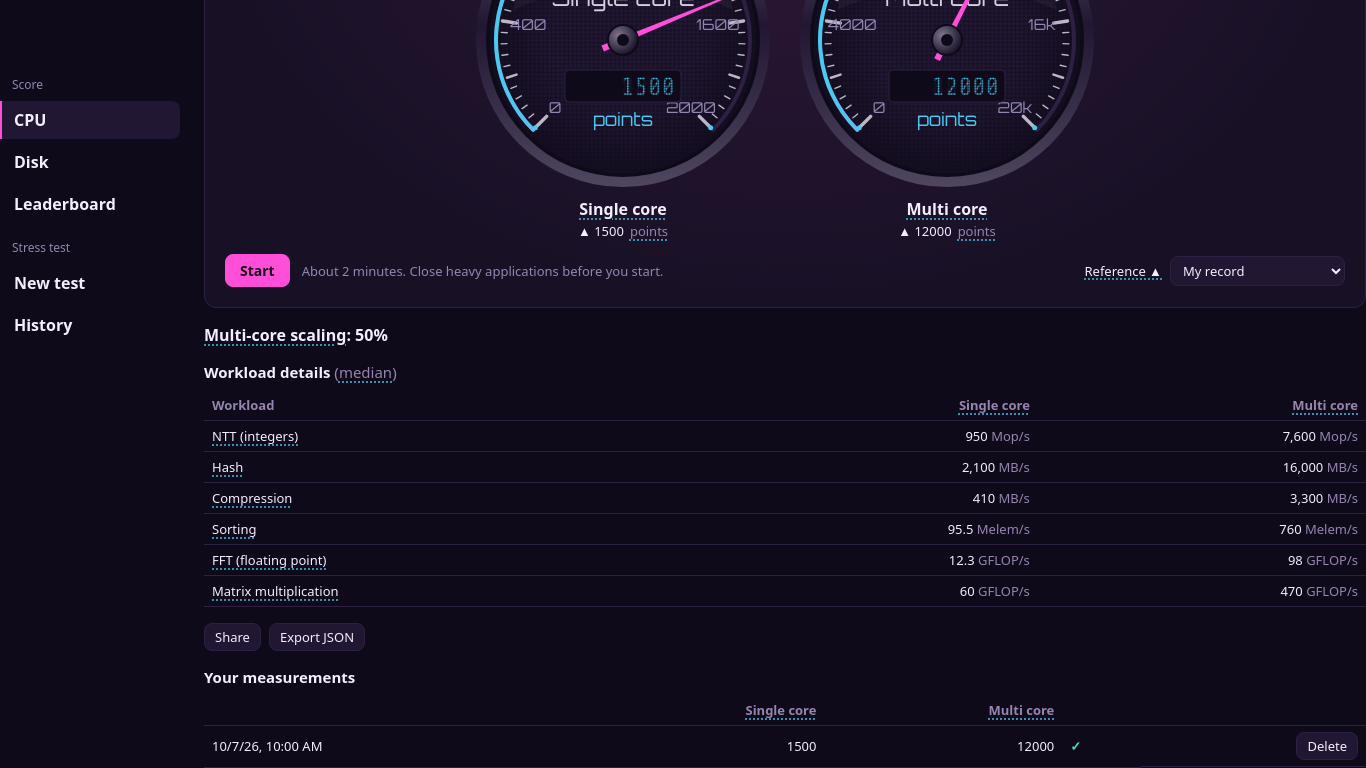
share_sends_and_marks_the_score_shared
(page scrolled)
What coordinates should you click on to do the following:
click the button "Share"
I would click on:
 (232, 637)
Its box is [204,623,261,651].
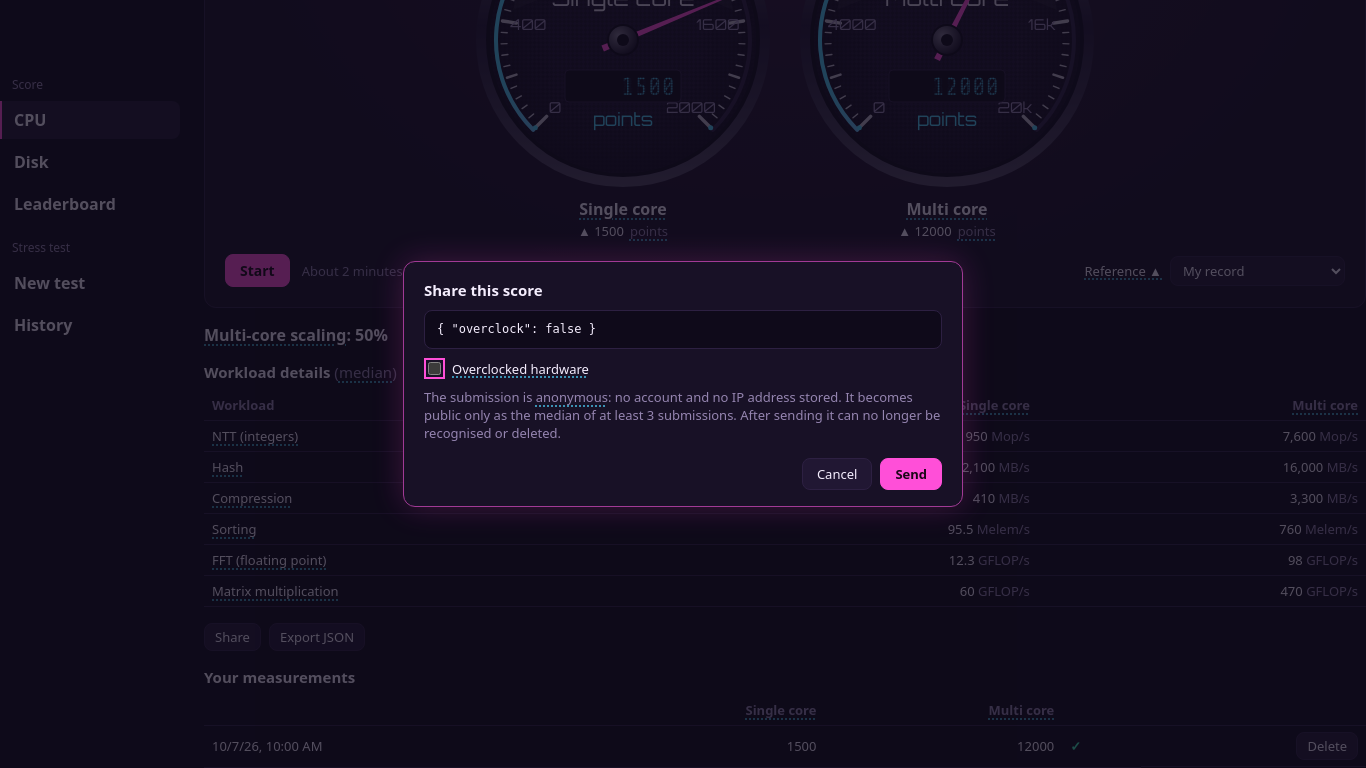
Now the button "Send" is enabled
What coordinates should you click on to do the following:
click the button "Send"
I would click on:
 (911, 474)
Its box is [880,458,942,490].
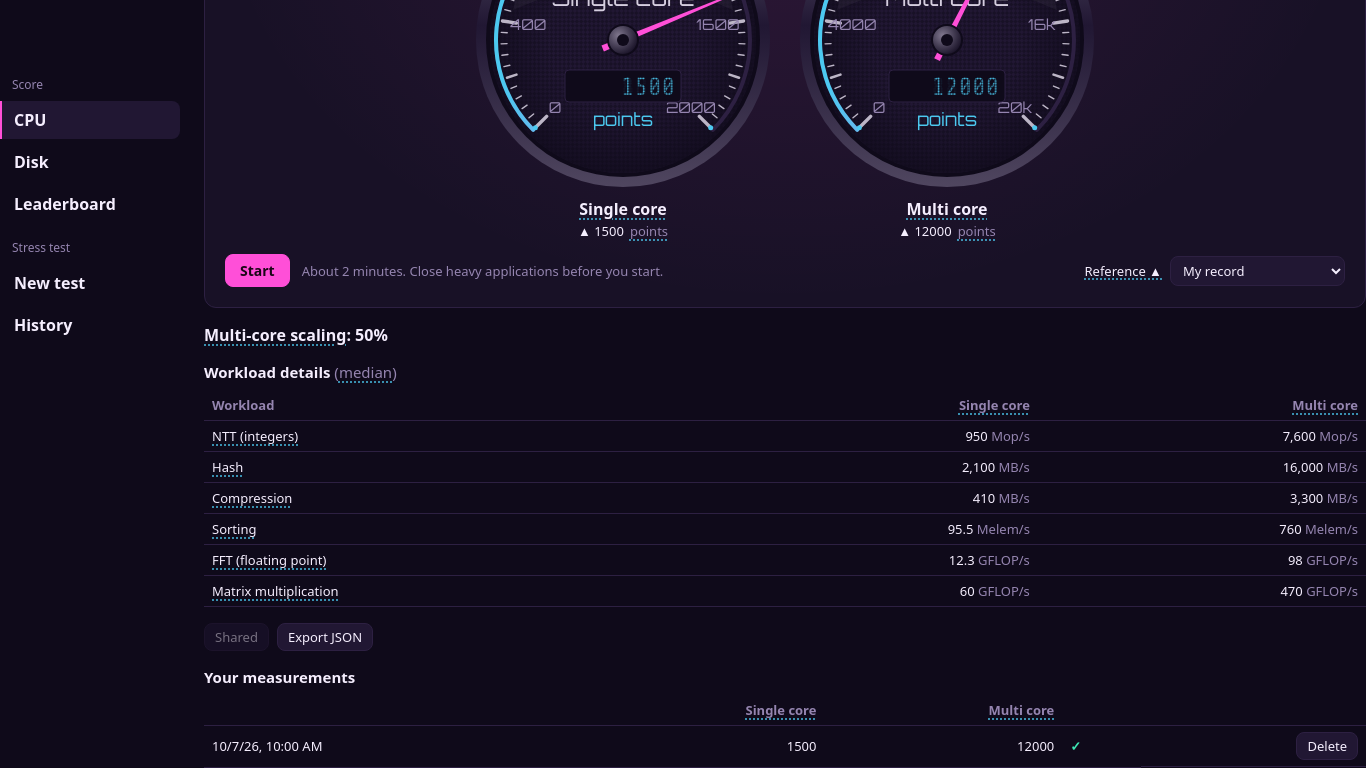
Now the button "Shared" is disabled, box [204,623,269,651]
